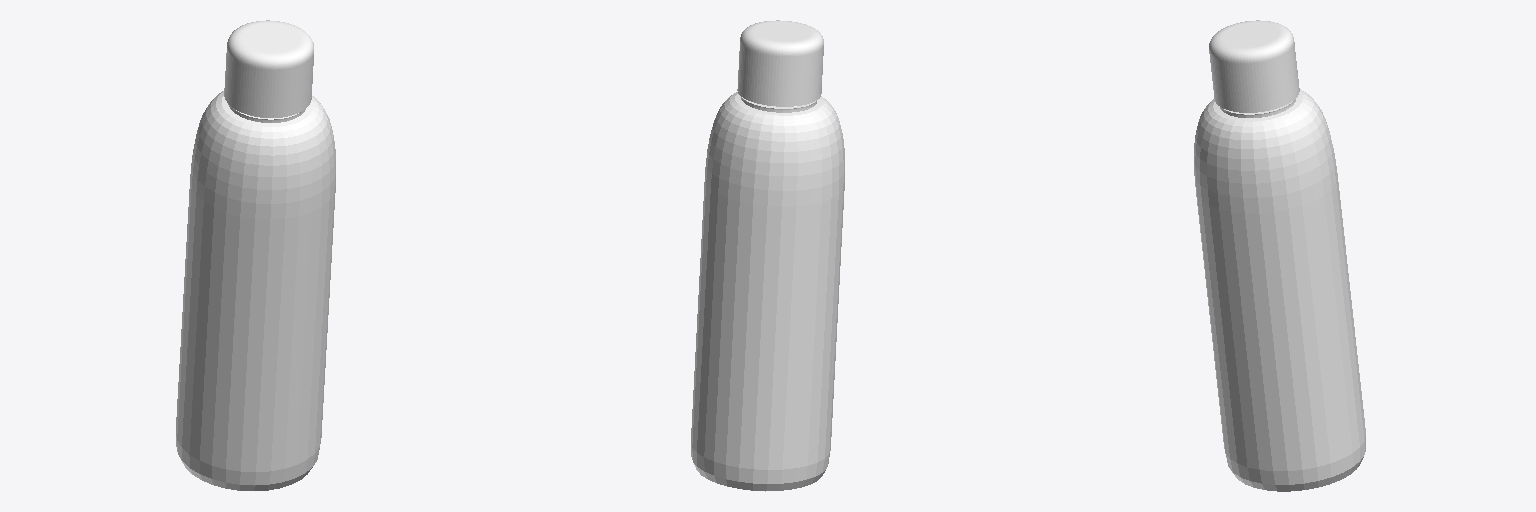
robot.urdf — urdf_robot:
<?xml version="1.0" ?>
<robot name="urdf_robot">
  <link name="base_link">
    <contact>
      <rolling_friction value="0.001"/>
      <spinning_friction value="0.001"/>
    </contact>
    <inertial>
      <origin rpy="0 0 0" xyz="0 0 0"/>
       <mass value=".1"/>
       <inertia ixx="1" ixy="0" ixz="0" iyy="1" iyz="0" izz="0.25"/>
    </inertial>
    <visual>
      <origin rpy="1.67 0 0" xyz="0 0 0"/>
      <geometry>
        <mesh filename="bottle/bottle.obj" scale = "0.009 0.009 0.009"/>
        <!-- <mesh filename="textured_sphere_smooth.obj" sscale = "1.2 1.2 1.2"/>       -->
      </geometry>
      <material name="white">
        <color rgba="1 1 1 1"/>
      </material>
    </visual>
    <collision>
      <origin rpy="1.67 0 0" xyz="0 0 0"/>
      <geometry>
        <mesh filename="bottle/bottle.obj" scale = "0.0085 0.0085 0.0085"/>
      </geometry>
    </collision>
  </link>
</robot>

--- Facts derived from the render (not from the file) ---
3 views of the same robot in one strip: view 1: azimuth 30°, elevation 25°; view 2: azimuth 150°, elevation 25°; view 3: azimuth 270°, elevation 25° (orthographic).
Model urdf_robot with 1 links and 0 joints (none), rooted at base_link, posed all joints at 0.
Links seen in each view (by area): view 1: base_link; view 2: base_link; view 3: base_link.
Link boxes in pixels (x1,y1,x2,y2): base_link: (176, 20, 335, 490); base_link: (691, 20, 844, 491); base_link: (1194, 20, 1365, 491).
Size in the robot's own frame: 0.0895 by 0.1086 by 0.3051 metres.
1 mesh visuals loaded from 1 distinct referenced files (1 OBJ).